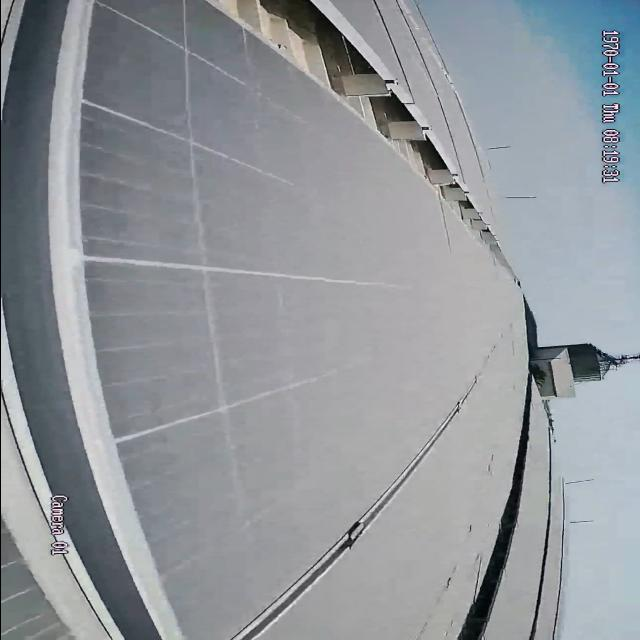interior panel: (0, 5, 192, 636), (218, 409, 462, 639)
outher panel: (208, 0, 498, 251), (456, 420, 529, 640)
